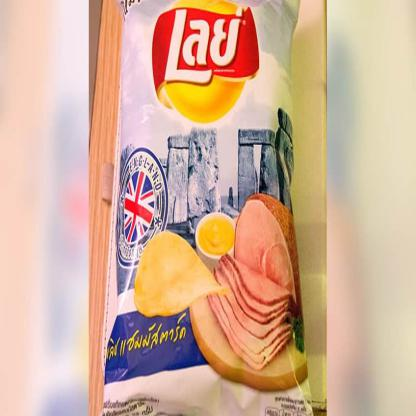potatochip: (98, 0, 317, 415)
